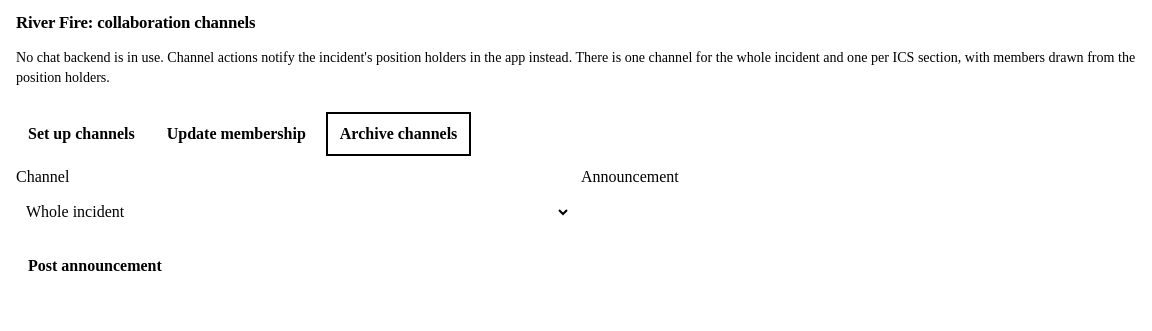
incident collaboration › says when the holders were notified in the app instead
The image size is (1152, 331).
Expected: the text "No chat backend is in use." is shown, top-left (16, 49), bottom-right (572, 65)
Click the button "Set up channels" at [81, 134], box top-left (16, 112), bottom-right (147, 156)
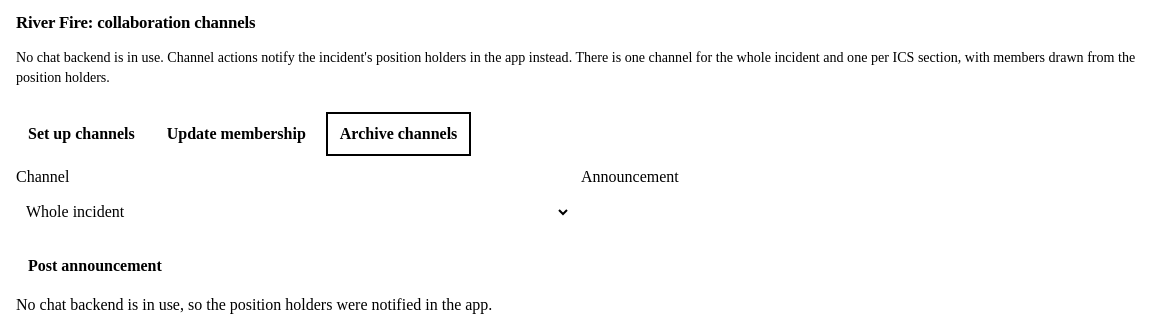
Now the text "No chat backend is in use, so the position holders were notified in the app." is shown, box top-left (16, 296), bottom-right (492, 313)
